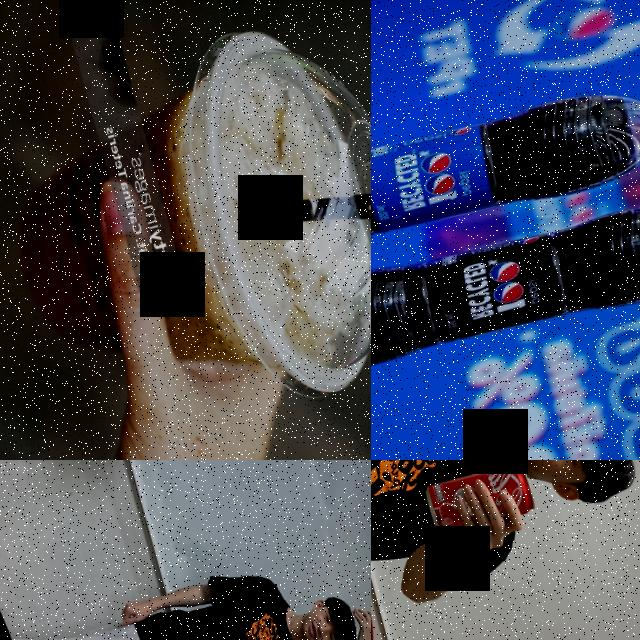bottle: (371, 49, 640, 288), (371, 162, 640, 397), (349, 600, 371, 638)
can: (420, 460, 536, 542)
cup: (0, 0, 371, 460)
